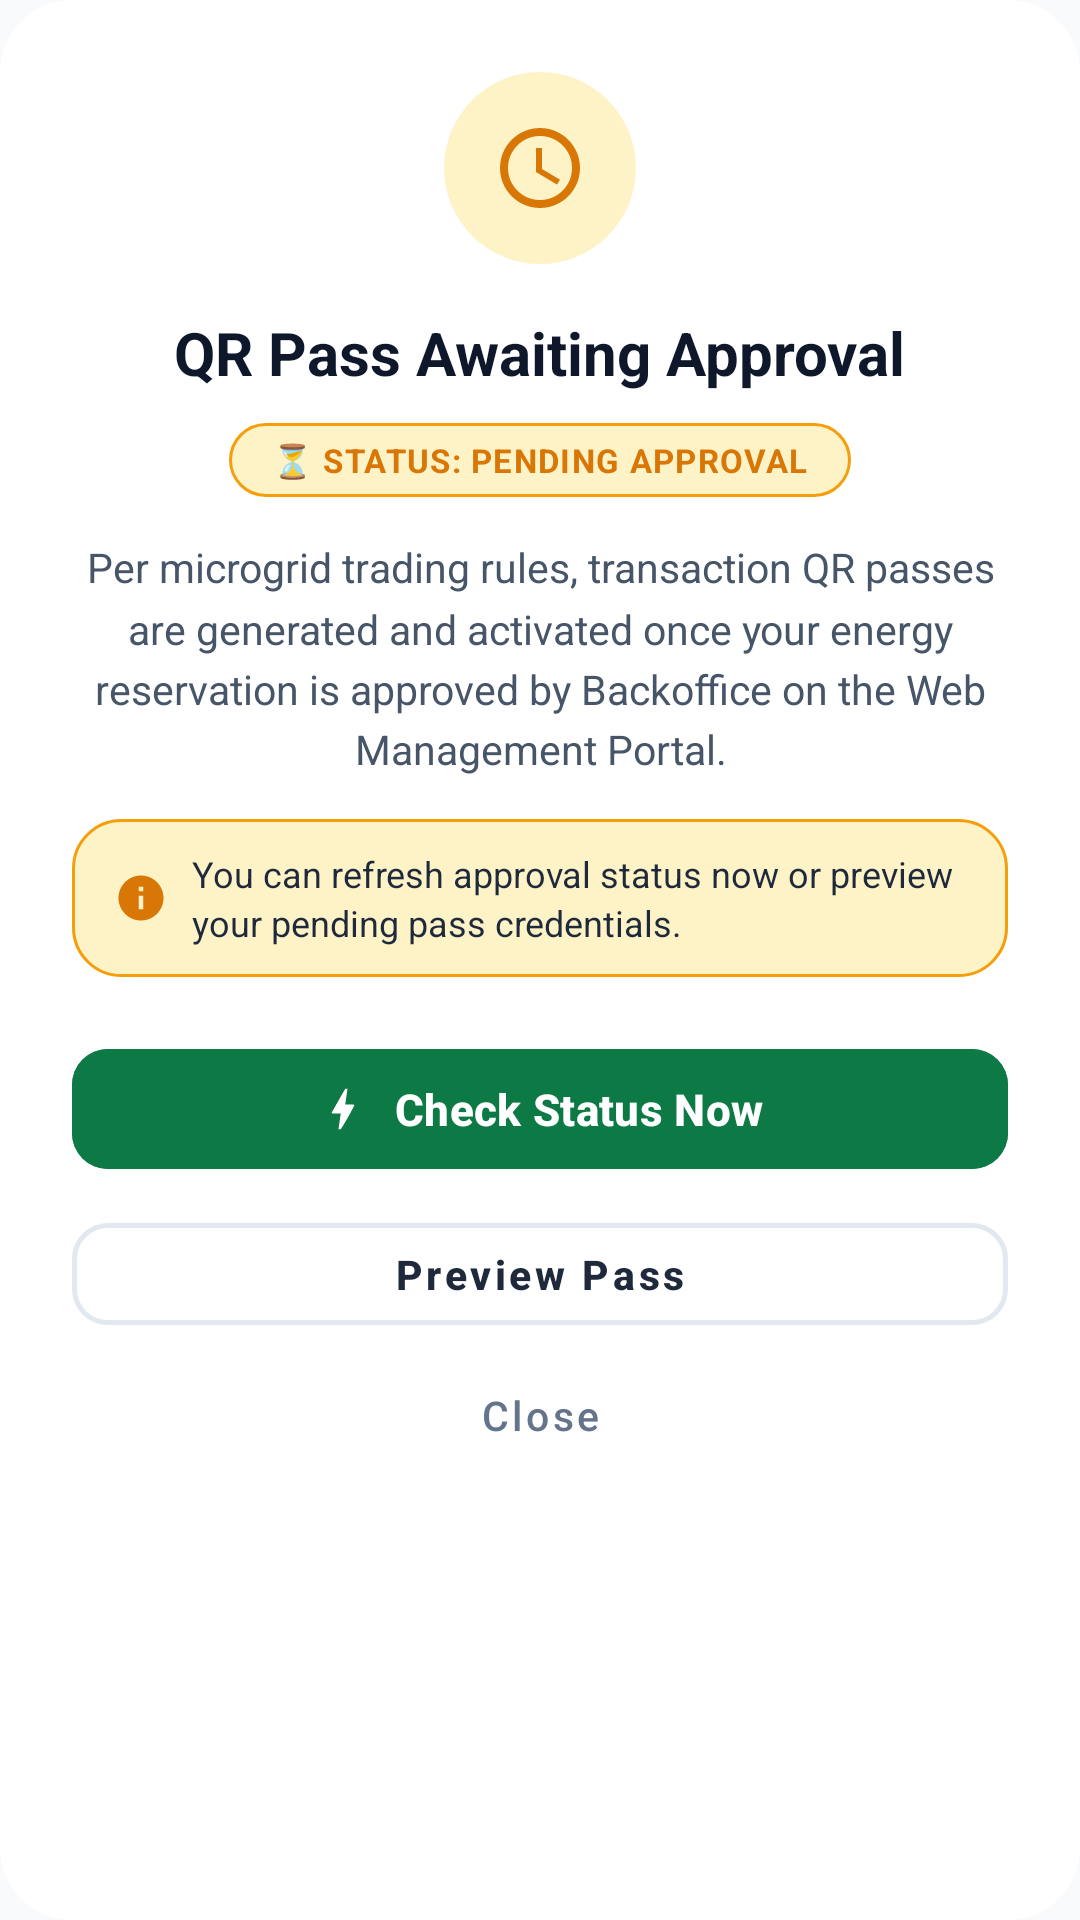

Named icons in this screenshot (1080 × 1920) and their bounding boxes, [x1,y1,x2,y2]:
Info: [118,875,164,921]
Pending Approval: [500,128,580,208]
